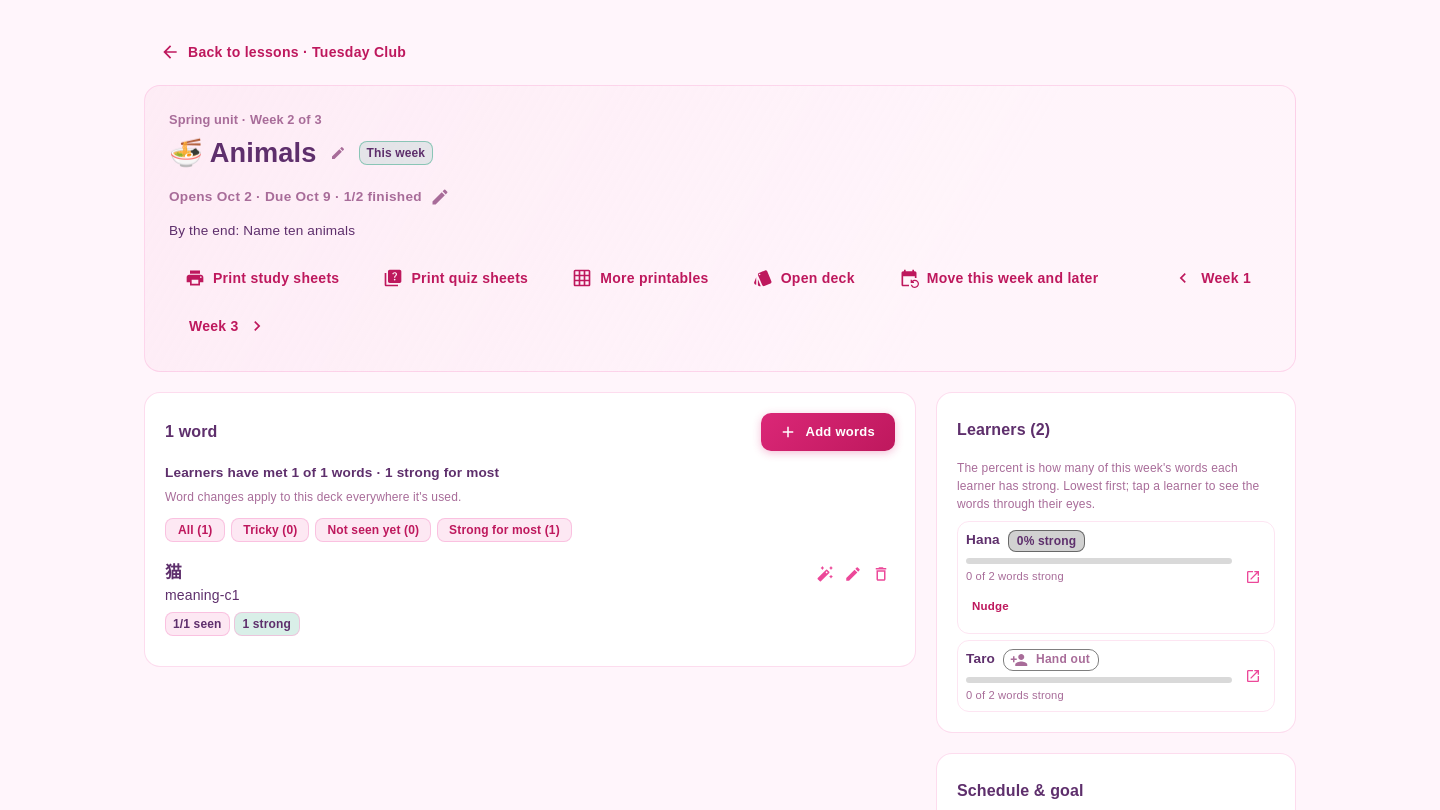
Test: HandoutPage › renames a handed-out lesson from the header and keeps the handout title in step
Click the button named "Rename lesson": (338, 153) [324,140,350,166]
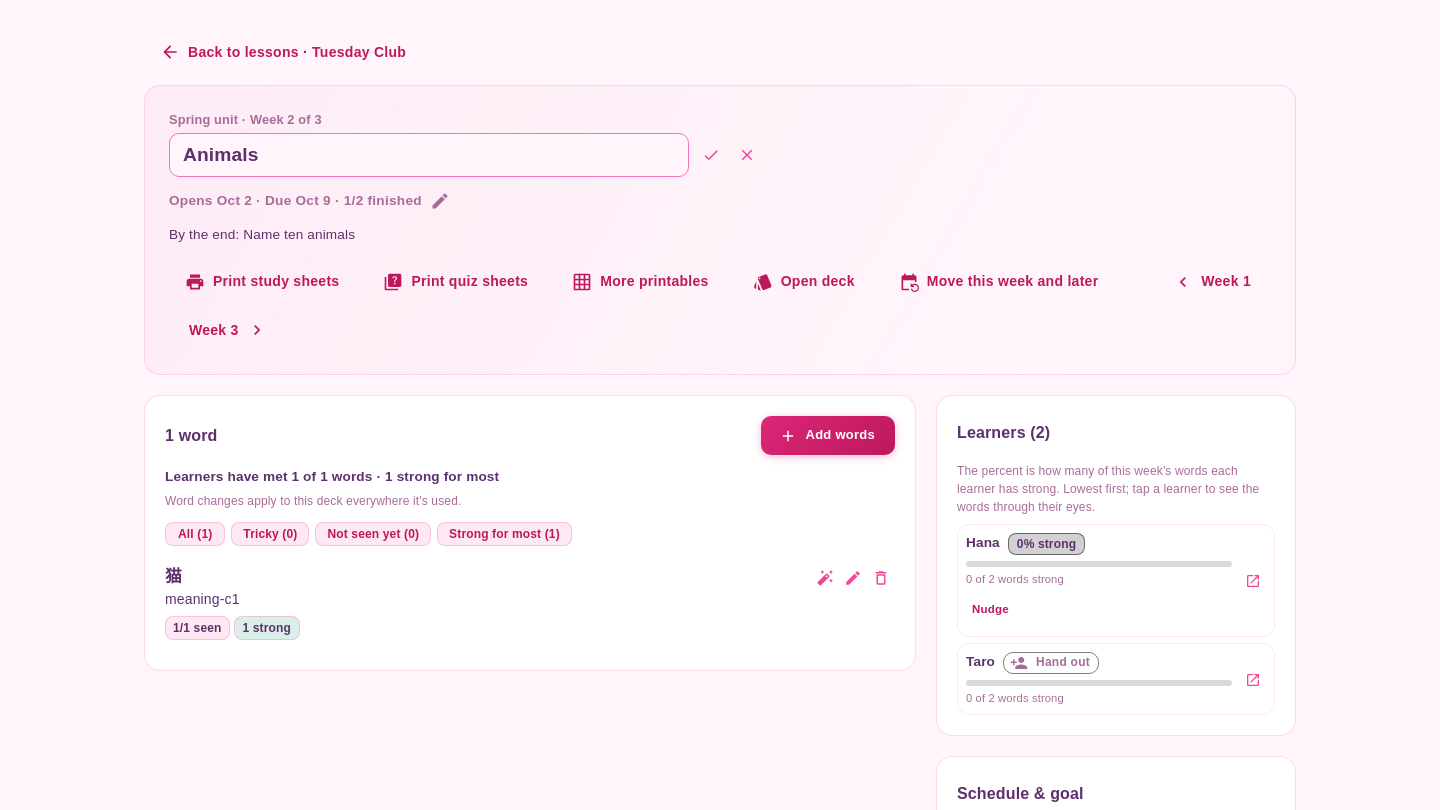
Replace the text in the field named "Lesson name" with "Zoo trip": (429, 155) [169,133,689,177]
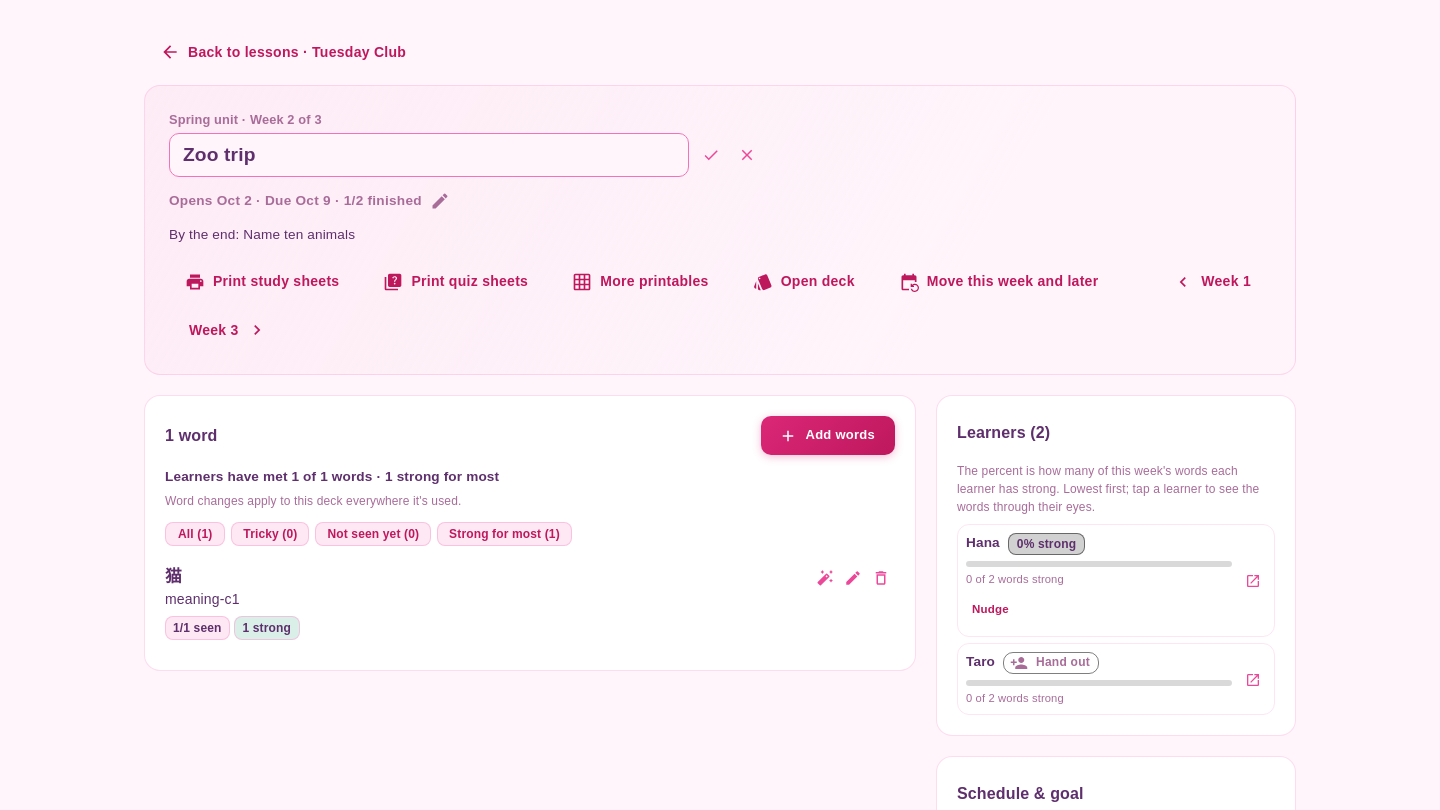
Click the button named "Save name": (711, 155) [697,141,725,169]
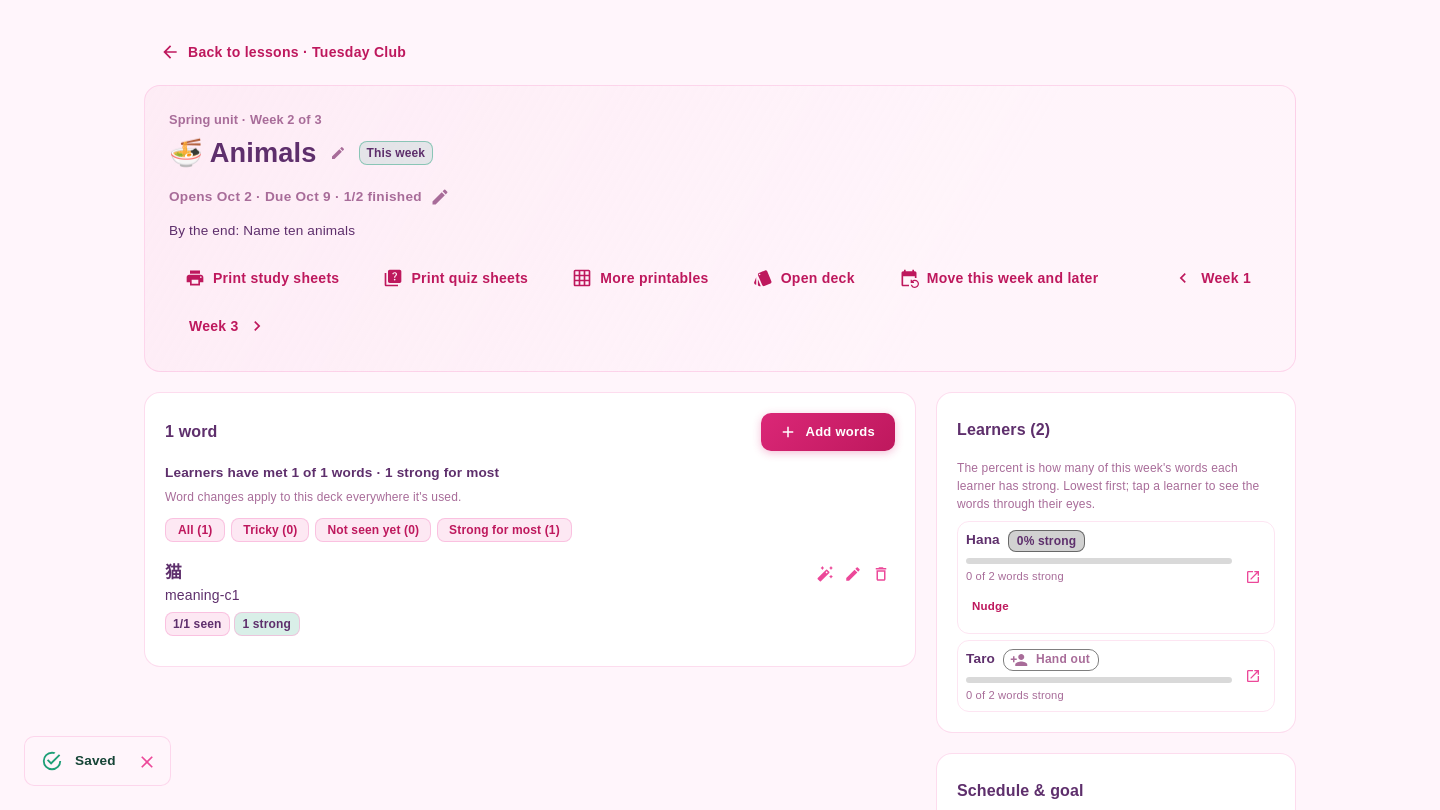
Now the text "Saved" is shown, box [75,753,116,768]
